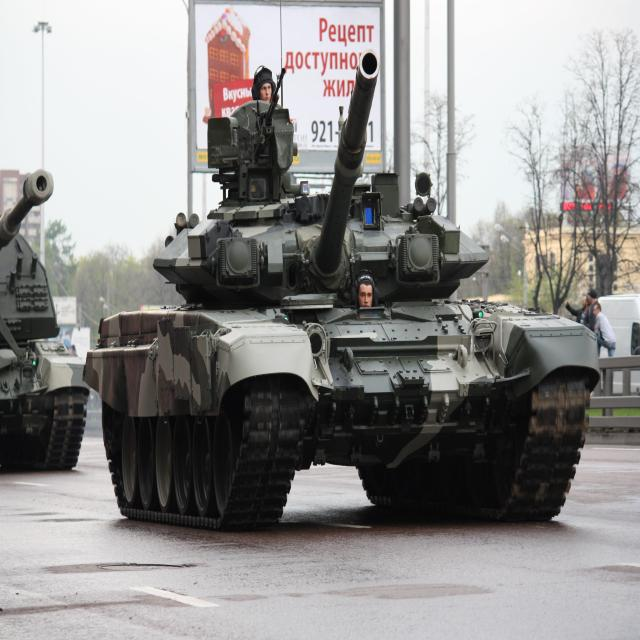Tanks: (87, 77, 618, 547)
